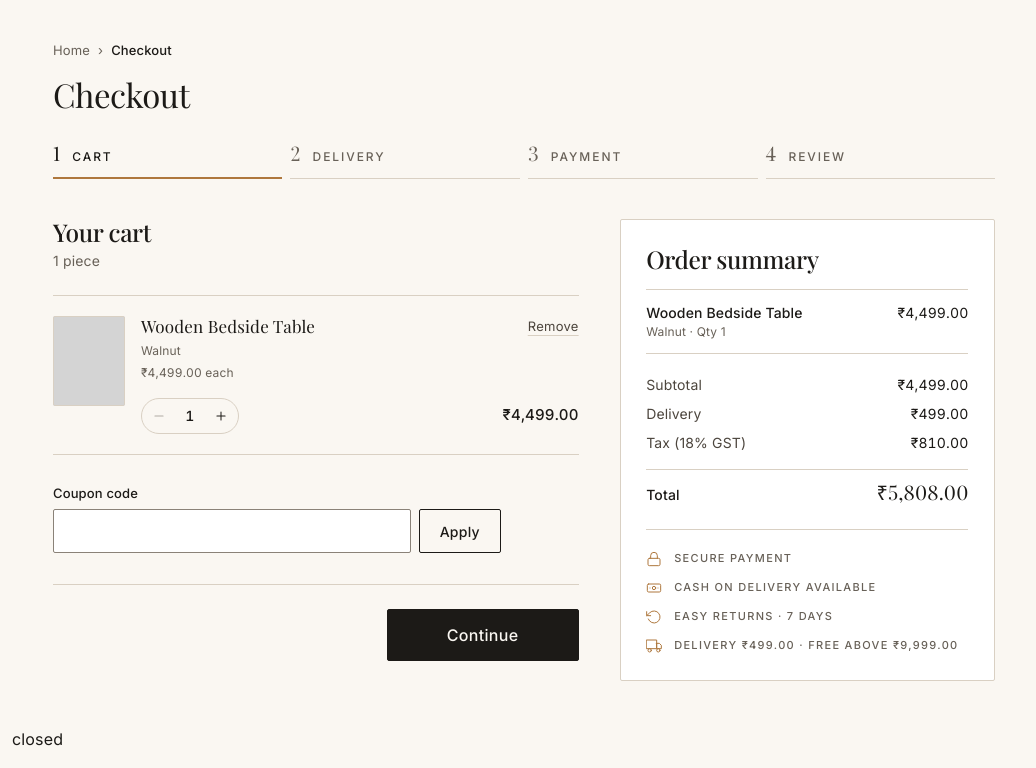
Test: the coupon › the code is typed in capitals; a refused code shows the API's message
Expected: the list named "Our promises" is shown, [646,529,968,654]
In the field labelled "Coupon code": (232, 532) [53,510,411,554], type "welcome500"
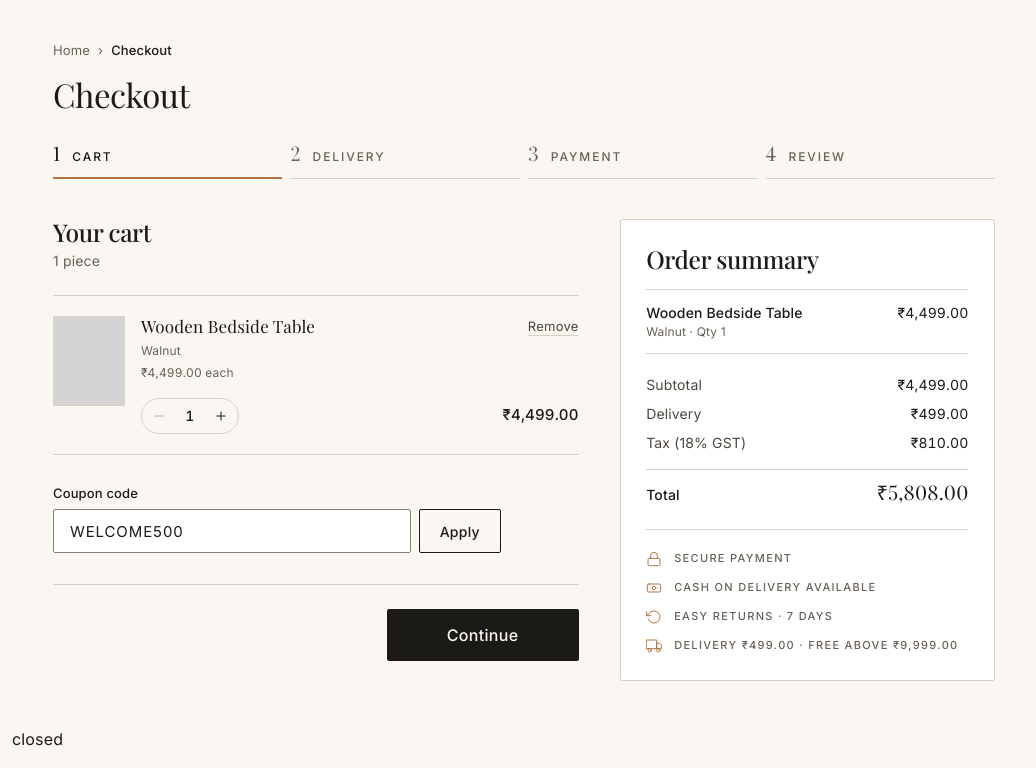
Click the button "Apply": (460, 532) [419,510,501,554]
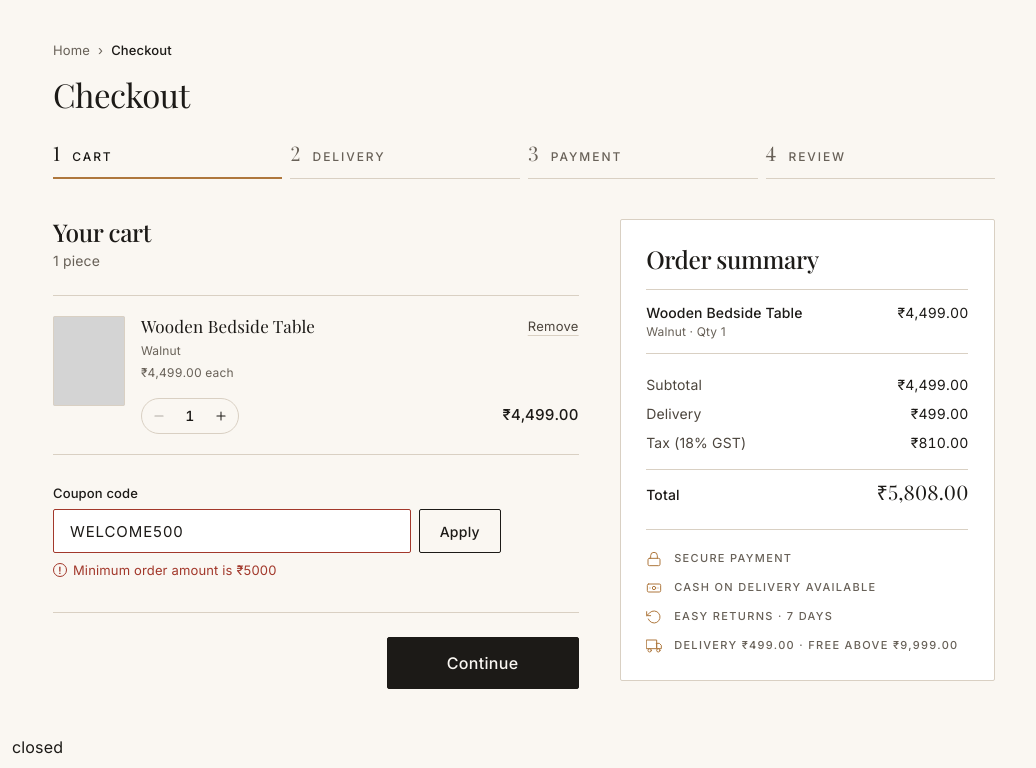
Now the text "Minimum order amount is ₹5000" is shown, box [73,562,276,578]
Replace the text in the field labelled "Coupon code" with "WELCOME50": (232, 532) [53,510,411,554]
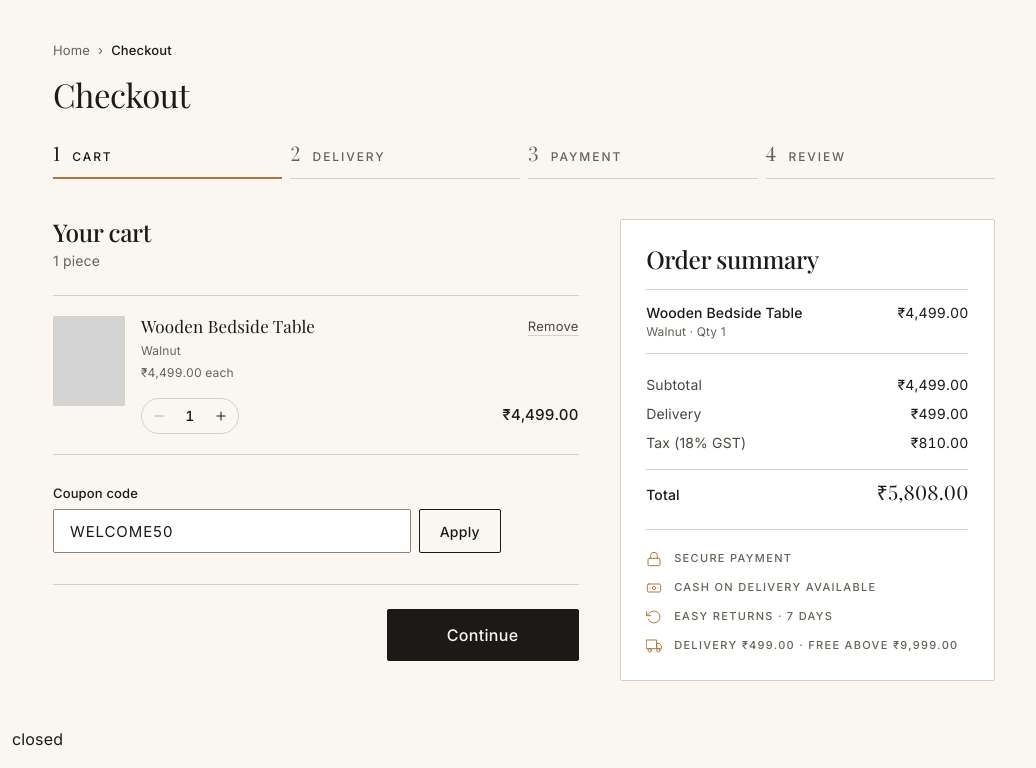
Now the text "Minimum order amount is ₹5000" is gone
